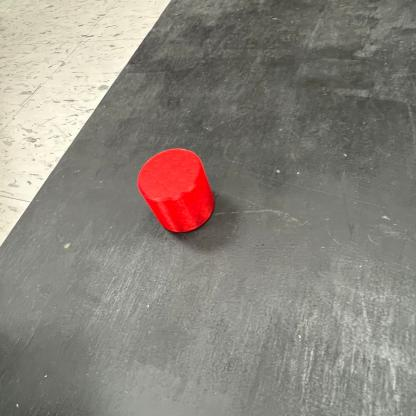red cylinder: (137, 146, 217, 236)
